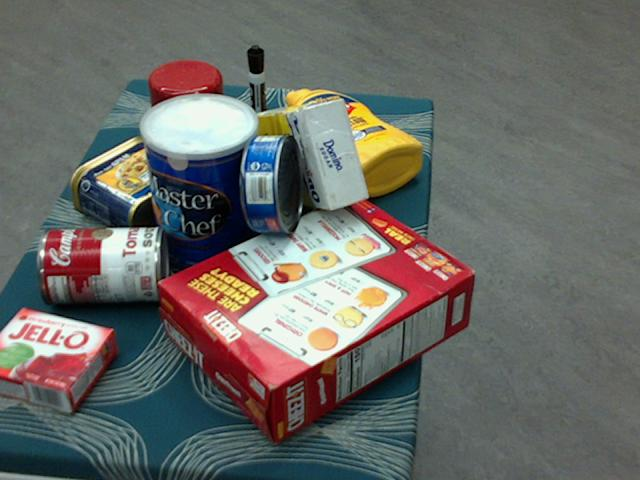cracker_box: (157, 192, 475, 442)
gelatin_box: (0, 306, 117, 412)
large_marker: (246, 44, 267, 149)
master_chef_can: (140, 95, 261, 281)
mug: (147, 61, 232, 161)
mustard_bottle: (284, 88, 422, 197)
potted_meat_can: (69, 137, 201, 239)
sugar_box: (251, 100, 367, 211)
tomato_soup_can: (36, 225, 167, 302)
tuna_fish_can: (240, 133, 303, 232)
